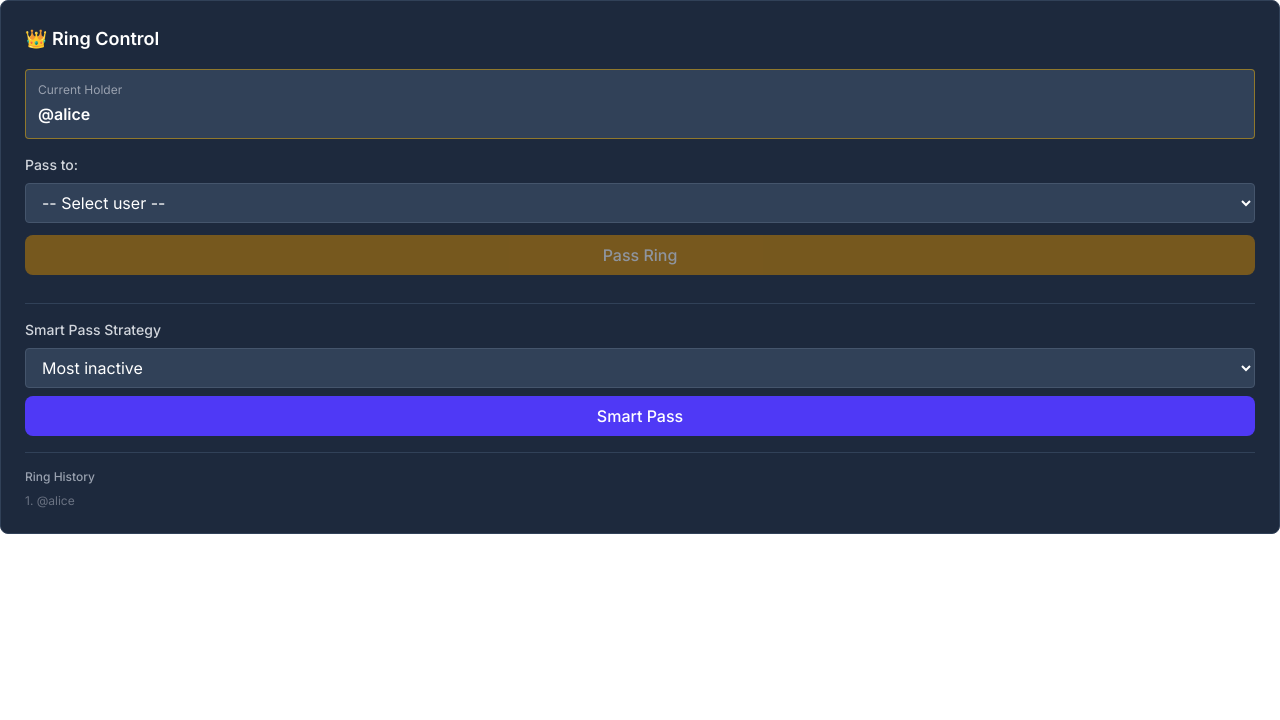
SmartRingPass › API Integration › displays reasoning text on successful smart pass
What coordinates should you click on to do the following:
click the button "Smart Pass"
I would click on:
 (640, 416)
Its box is [25,396,1255,436].
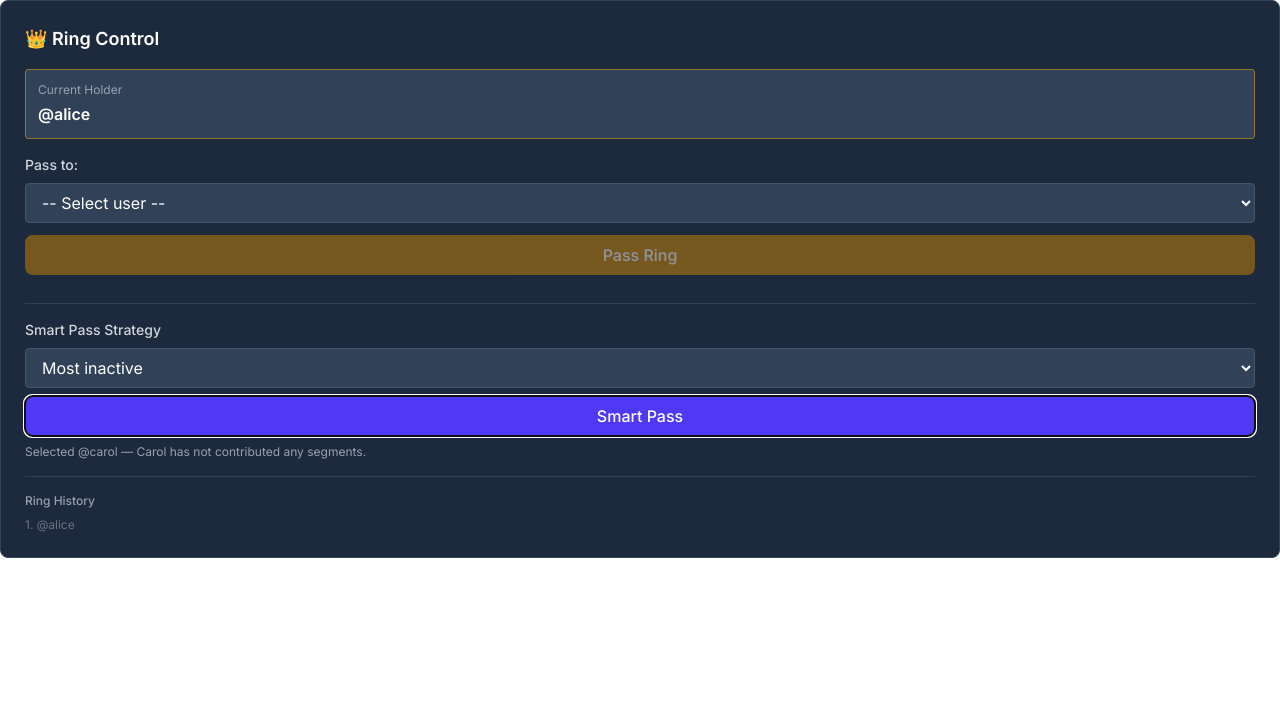
Result: the text "Selected @carol — Carol has not contributed any segments." is shown at [25,444,366,459]
